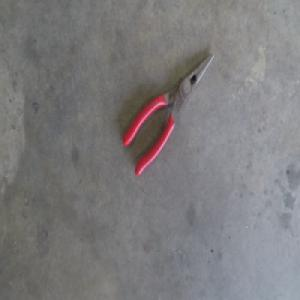Pliers: (122, 51, 214, 178)
